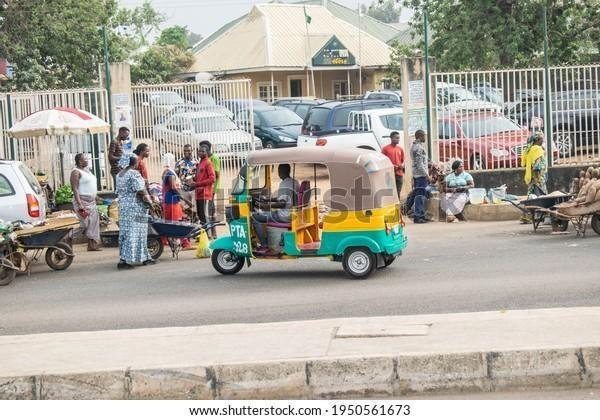keke: (208, 142, 406, 279)
